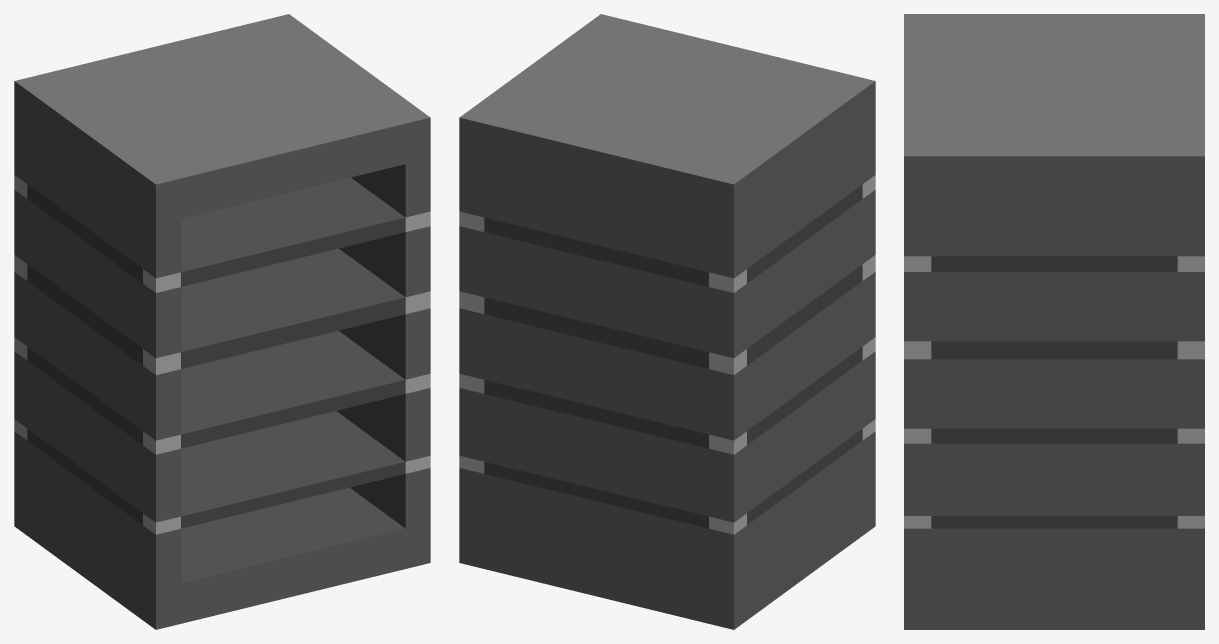
The model's file is estnteri2.fbx.
3 views of the same model, side by side, from view 1: azimuth 30°, elevation 25°; view 2: azimuth 150°, elevation 25°; view 3: azimuth 270°, elevation 25° (orthographic). The views are drawn at different scales.
Parts seen in each view (by area): view 1: Cube; view 2: Cube; view 3: Cube.
Boxes of the visible parts, x1,y1,x2,y2 form: Cube: (14, 14, 430, 629); Cube: (459, 14, 875, 629); Cube: (904, 14, 1204, 629).
Size of the model in its own units: 887 by 1375 by 792.
1 material, 1 textured.
